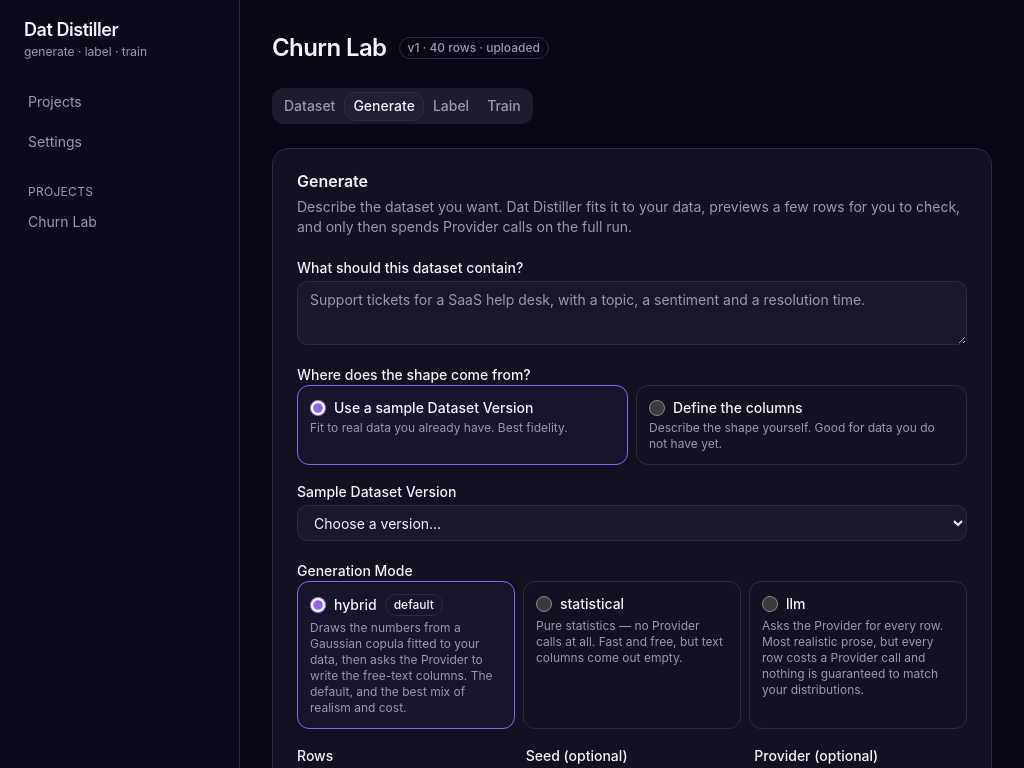
it: Generate step — the preview gate › editing the description invalidates the preview, because it no longer describes the run
Step 1. Type "support tickets" into the text box labelled "What should this dataset contain?" → x=632, y=313, box [297,281,967,345]
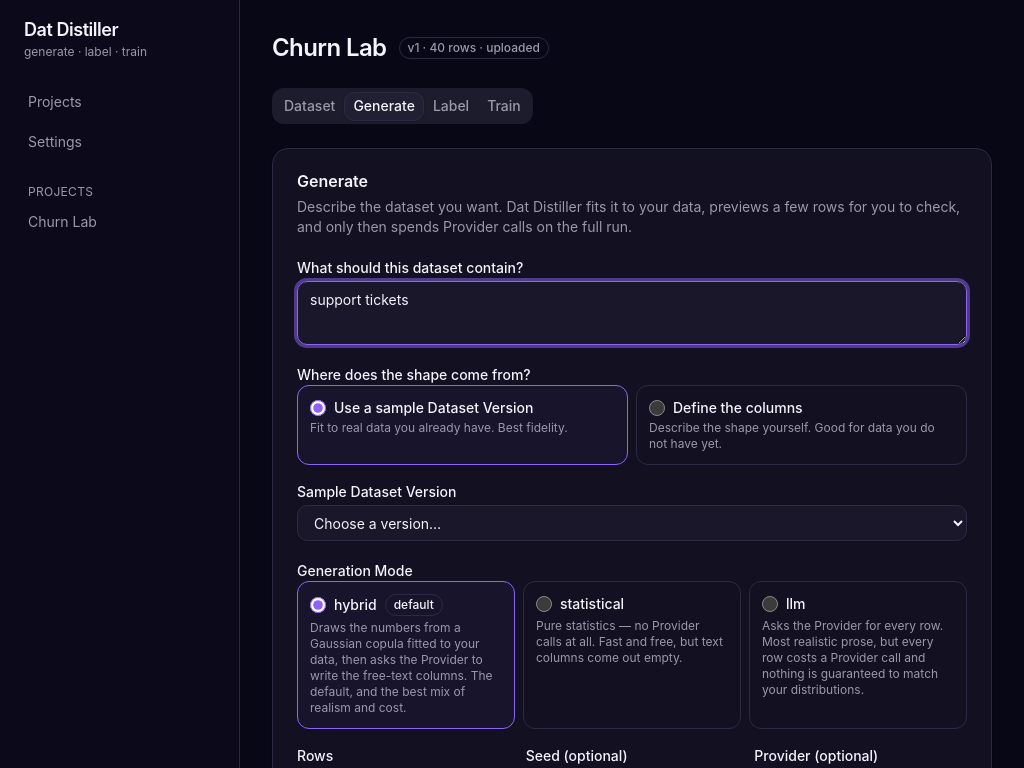
Step 2. Select "v1 · 40 rows · uploaded" in the dropdown labelled "Sample Dataset Version" → x=632, y=523, box [297,505,967,541]
(page scrolled)
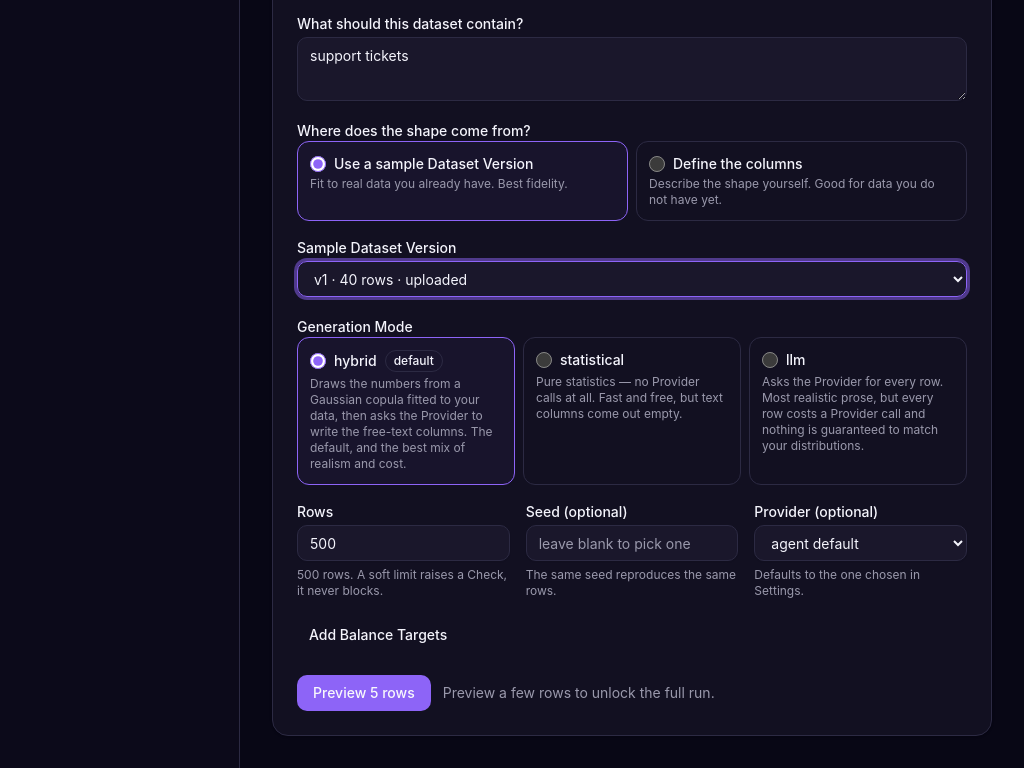
Step 3. Click the button "Preview 5 rows" → x=364, y=693, box [297,675,431,711]
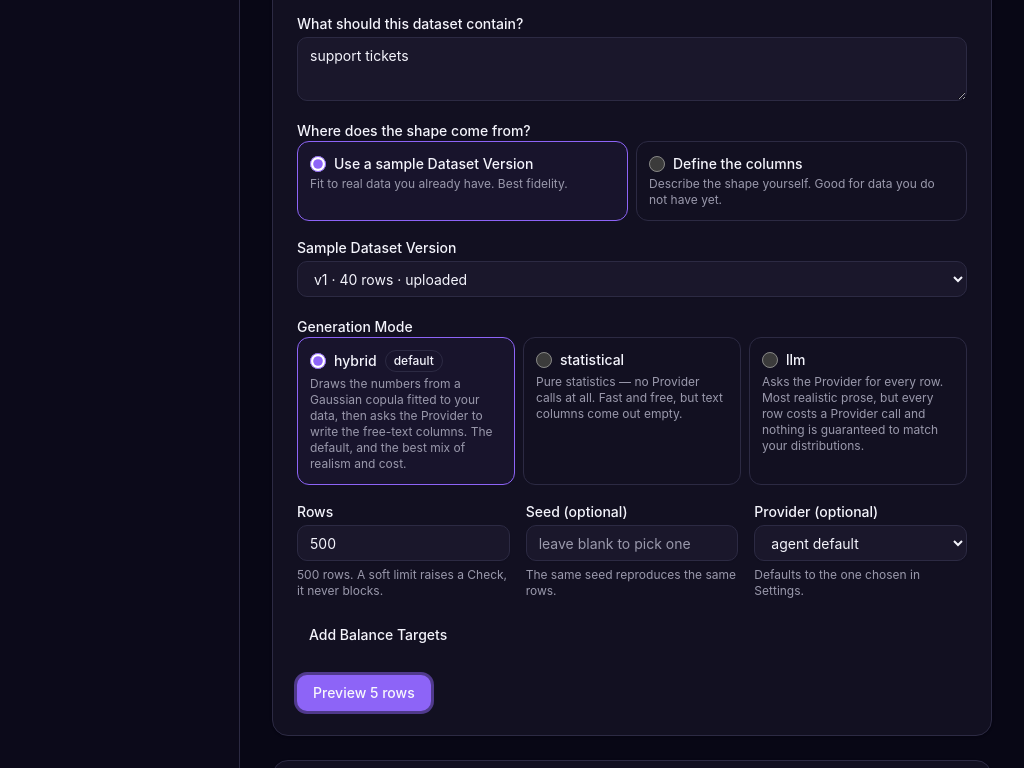
Step 4. Type " for a bank" into the text box labelled "What should this dataset contain?" → x=632, y=69, box [297,37,967,101]
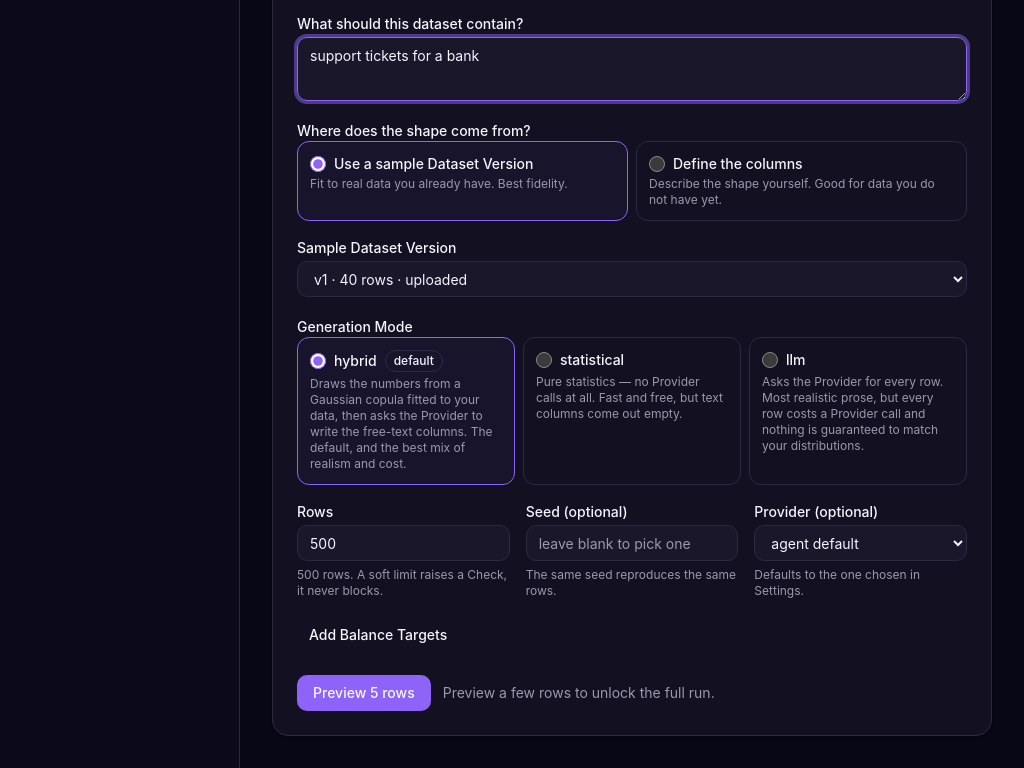
Check: the text "Preview a few rows to unlock the full run." is shown, box [443,683,715,703]
